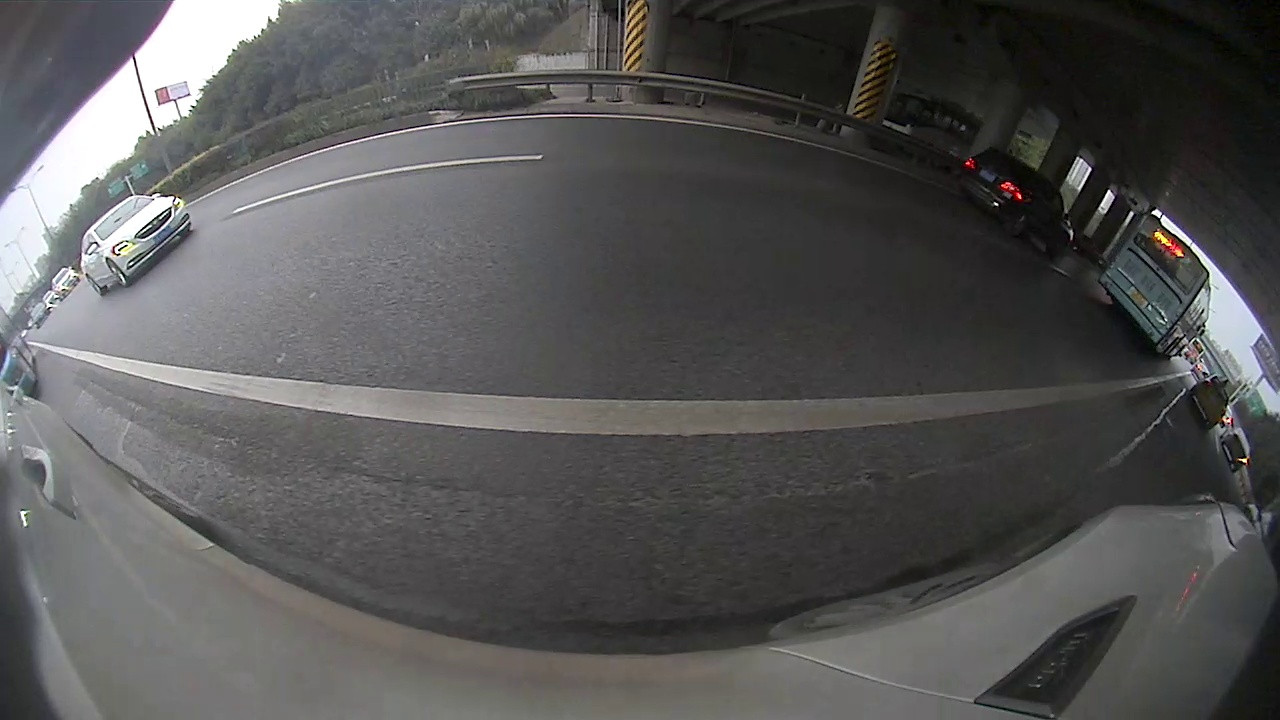bus: (1099, 212, 1211, 359)
car: (961, 146, 1075, 257), (82, 193, 190, 294), (1190, 371, 1229, 430), (1223, 428, 1251, 470), (50, 268, 78, 298)
front: (104, 258, 130, 288)
rear: (86, 274, 104, 298)
